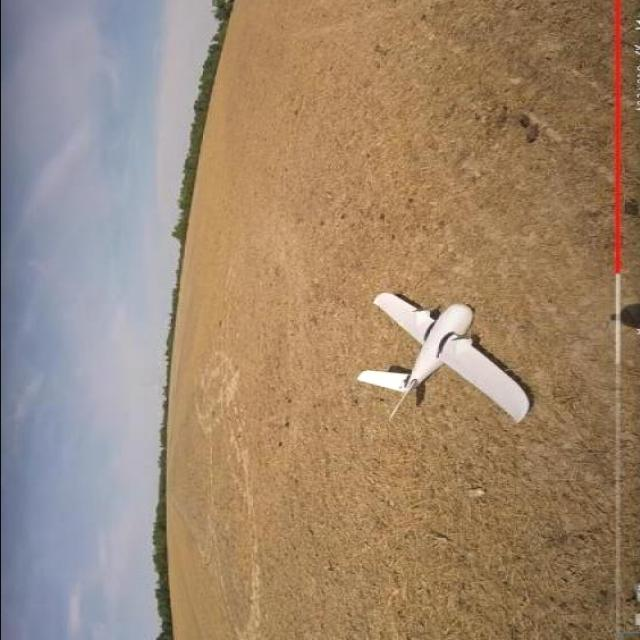plane: (354, 292, 531, 426)
